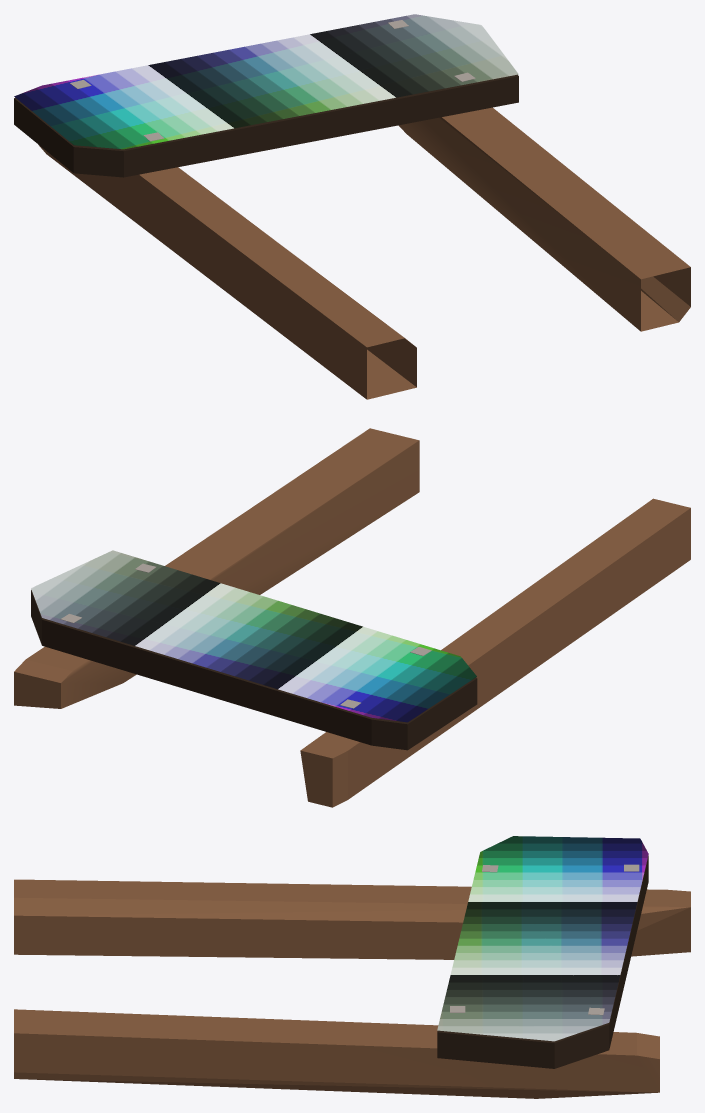
The model's file is Text Signboard 01.FBX.
3 renders of one model, top to bottom at view 1: azimuth 30°, elevation 25°; view 2: azimuth 150°, elevation 25°; view 3: azimuth 270°, elevation 25°, orthographic.
Parts seen in each view (by area): view 1: Text Signboard 01, Text Signboard 01 Text; view 2: Text Signboard 01, Text Signboard 01 Text; view 3: Text Signboard 01, Text Signboard 01 Text.
Part boxes in pixels (x1=…): Text Signboard 01: x1=14, y1=20, x2=690, y2=399; Text Signboard 01 Text: x1=14, y1=14, x2=518, y2=149; Text Signboard 01: x1=14, y1=428, x2=690, y2=807; Text Signboard 01 Text: x1=31, y1=550, x2=476, y2=722; Text Signboard 01: x1=14, y1=855, x2=690, y2=1098; Text Signboard 01 Text: x1=437, y1=836, x2=648, y2=1041.
Size of the model in its own units: 93.77 by 131 by 17.2.
